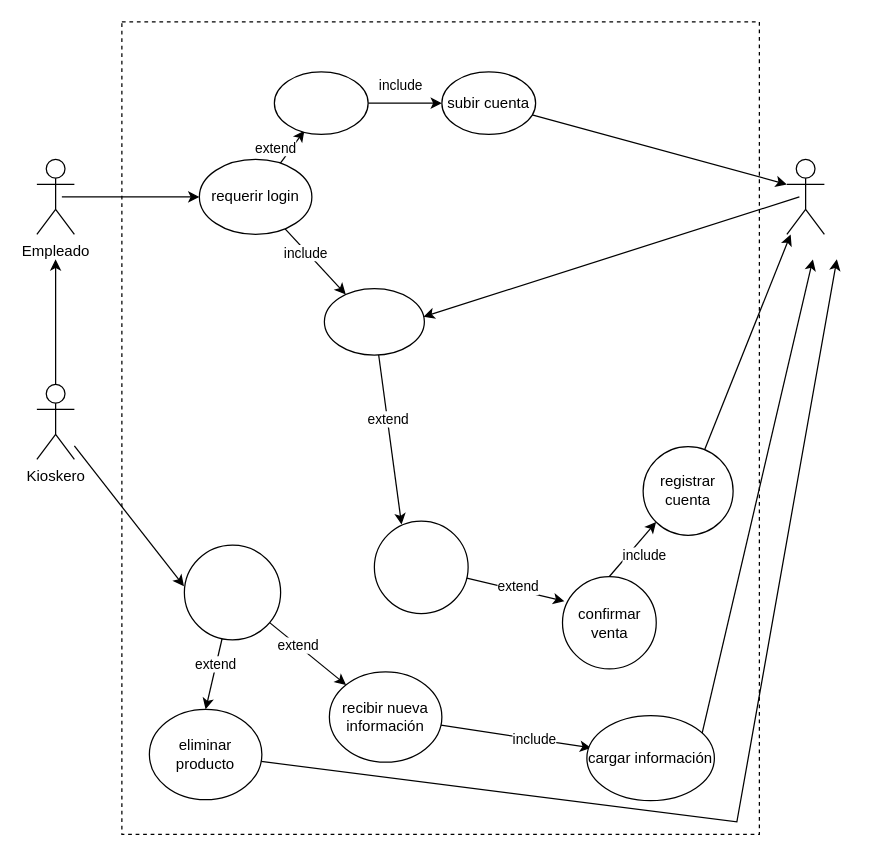
Some shapes in this 869 by 856 pixel diagram are drawn without their labels. Each missing label, with the centre of its shape:
actualizar, eliminar o agregar producto: the point at 232,592
crear cuenta: the point at 320,102
Database: the point at 805,196
ingresar venta: the point at 420,567
mostrar opcion tablas: the point at 373,321
